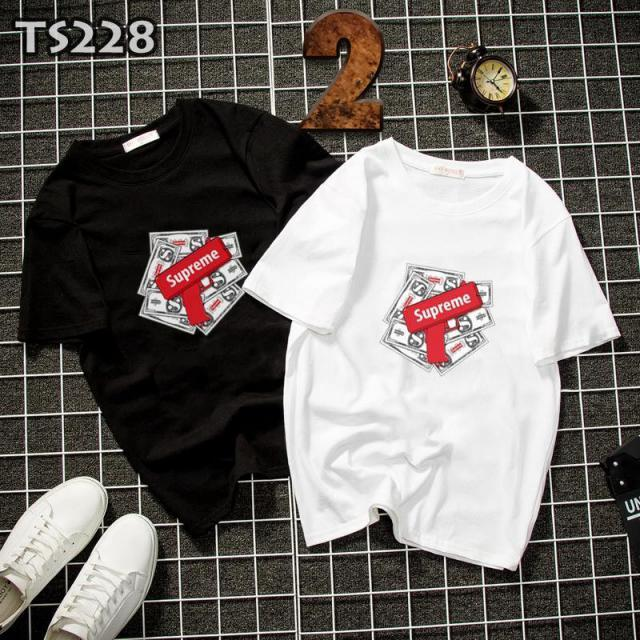Shirt: (239, 133, 624, 580), (14, 90, 366, 540)
